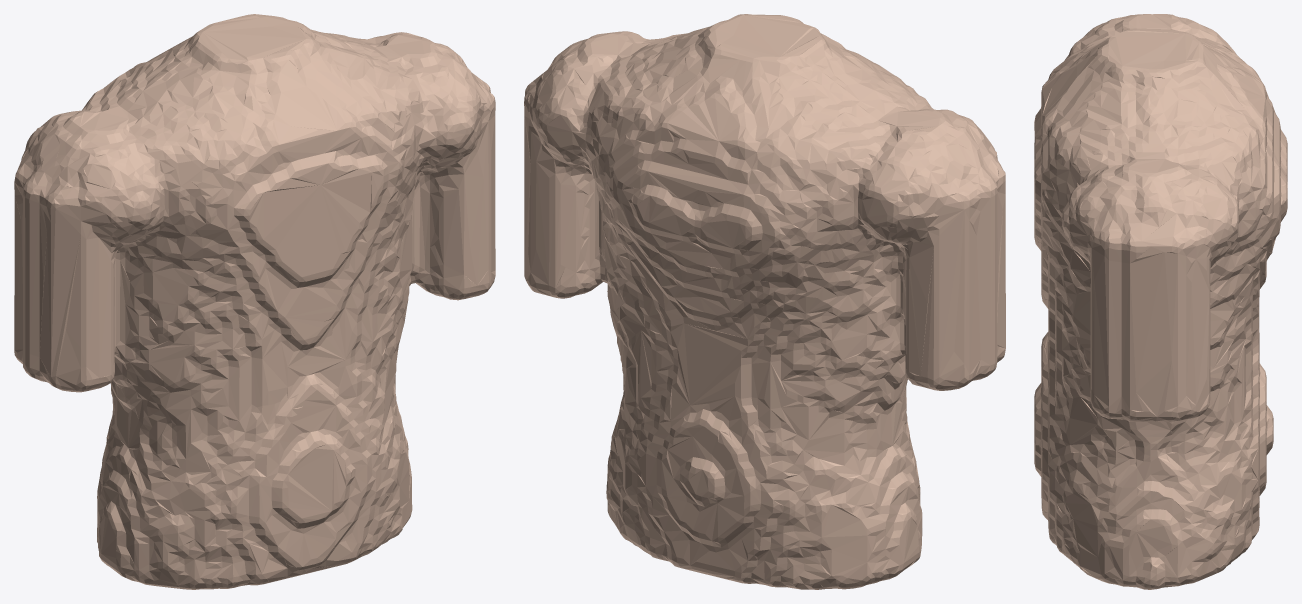
Rendered from patient.glb.
3 renders of one model, left to right at view 1: azimuth 30°, elevation 25°; view 2: azimuth 150°, elevation 25°; view 3: azimuth 270°, elevation 25°, orthographic. The views are drawn at different scales.
Bounding box in the file's own units: 0.371 × 0.3918 × 0.1884.
